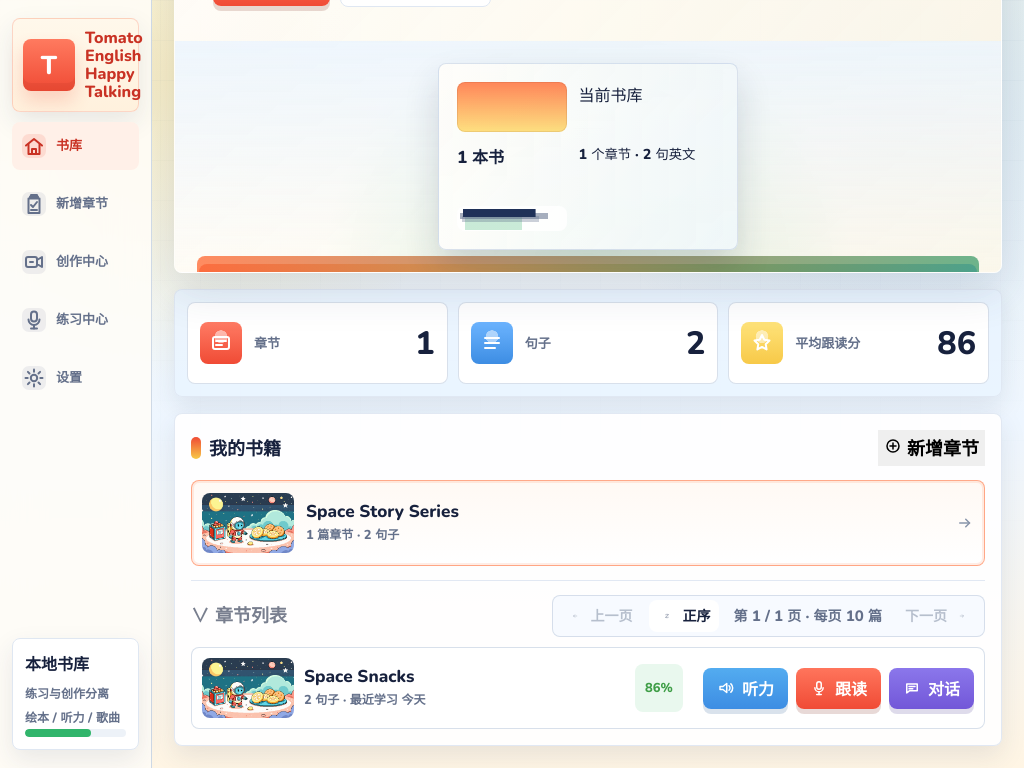
Scenario: App › renders the book library shell
(page scrolled)
Expected: the text "我的书籍" is shown, [191,434,281,462]
Expected: the text "Space Story Series" is shown, [306,500,459,523]
Click the button "Space Story Series 1 篇章节 · 2 句子": [248, 523] box [202,491,974,555]
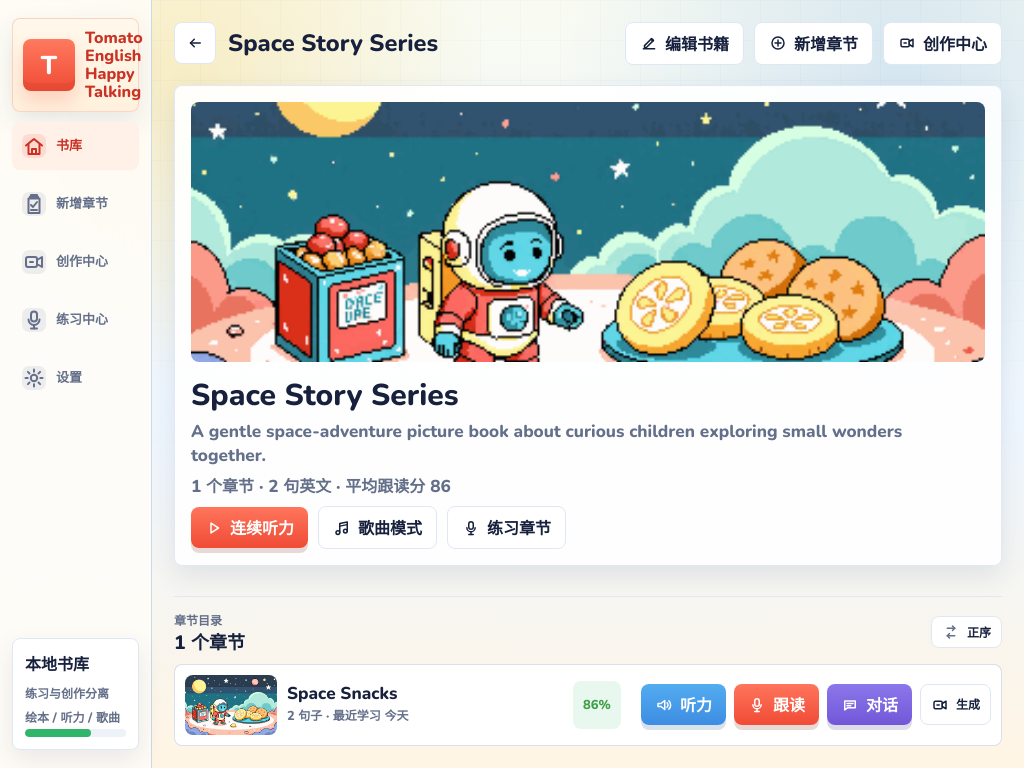
Expected: the button "跟读" is shown, [734,684,819,725]
Now the text "章节目录" is shown, box [174,612,222,630]
